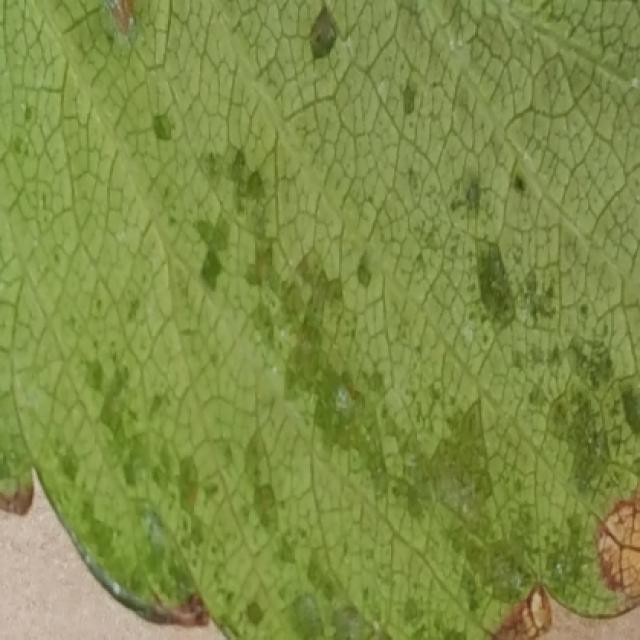Angular Leafspot: (0, 0, 638, 638)
